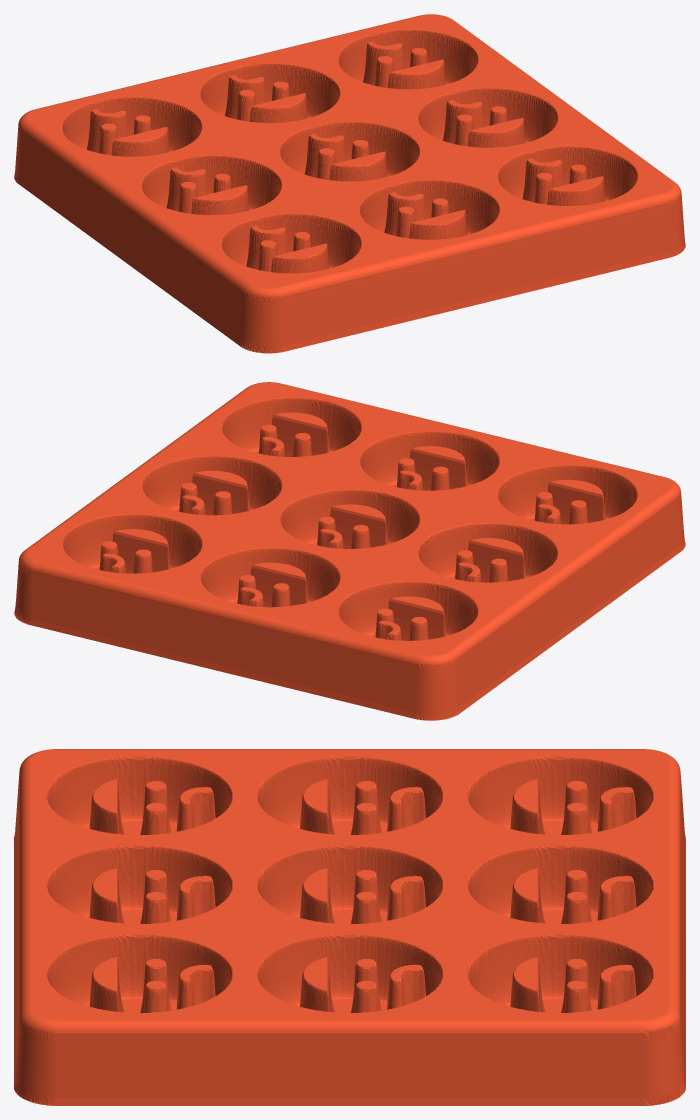
Rendered from mold.glb.
3 views of the same model, one above another, from view 1: azimuth 30°, elevation 25°; view 2: azimuth 150°, elevation 25°; view 3: azimuth 270°, elevation 25° (orthographic). The views are drawn at different scales.
Parts seen in each view (by area): view 1: geometry_0; view 2: geometry_0; view 3: geometry_0.
Part boxes in pixels (<box>): geometry_0: <box>14,14,685,353</box>; geometry_0: <box>14,382,685,720</box>; geometry_0: <box>14,749,685,1105</box>.
Size of the model in its own units: 0.1402 by 0.0182 by 0.1402.
